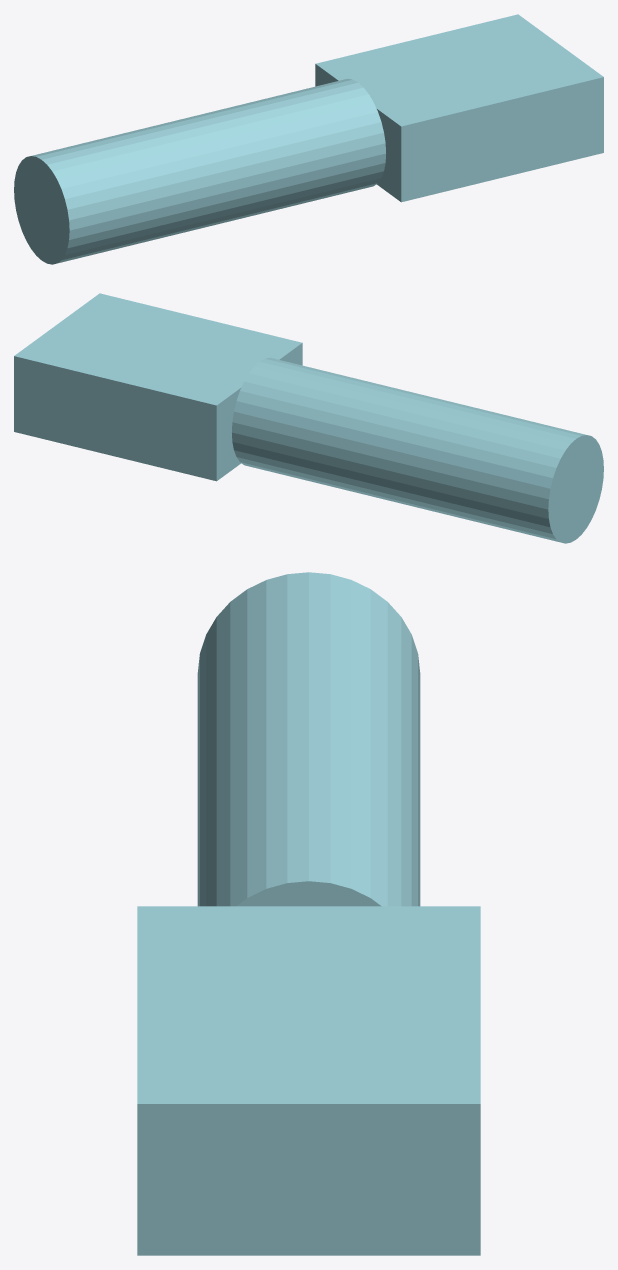
The model's file is cylinder_brush_v9001.obj.
3 views of the same model, one above another, from view 1: azimuth 30°, elevation 25°; view 2: azimuth 150°, elevation 25°; view 3: azimuth 270°, elevation 25° (orthographic). The views are drawn at different scales.
Bounding box in the file's own units: 0.2605 × 0.0483 × 0.0745.
1 material, 1 textured.
